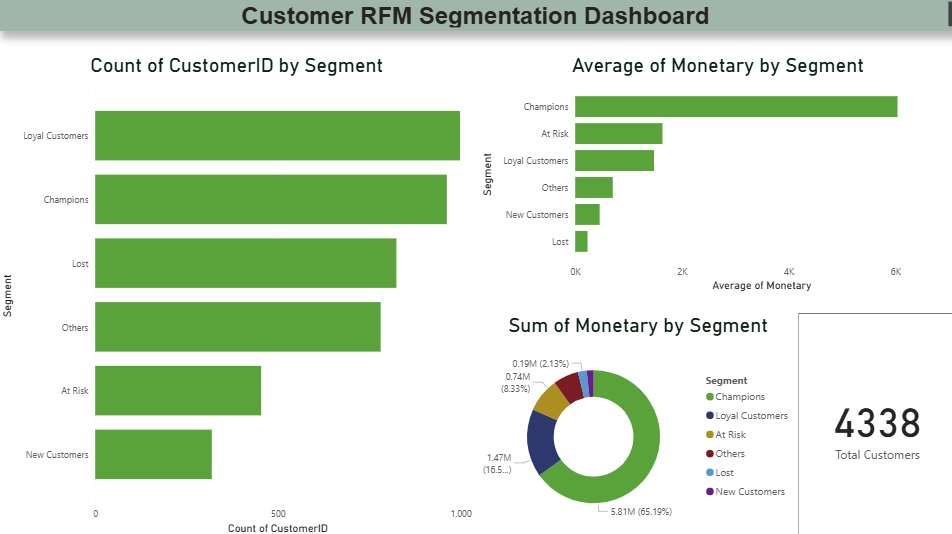

This screenshot's page, from the dashboard's own definition file:
{"tool":"powerbi","page":{"name":"Page 1","canvas":[1280,720],"ordinal":0},"visuals":[{"type":"barChart","fields":{"Category":["rfm_final.Segment"],"Y":["CountNonNull(rfm_final.CustomerID)"]},"box":[0,72.9,637.1,647.1],"z":0},{"type":"barChart","fields":{"Category":["rfm_final.Segment"],"Y":["Avg(rfm_final.Monetary)"]},"box":[640,73.3,640,323.3],"z":1},{"type":"card","fields":{"Values":["CountNonNull(rfm_final.CustomerID)"]},"box":[1067.1,420,212.9,300],"z":2},{"type":"donutChart","fields":{"Category":["rfm_final.Segment"],"Y":["Sum(rfm_final.Monetary)"]},"box":[640,420,427.5,300],"z":3},{"type":"textbox","box":[0,0,1280,44.3],"z":4}]}

Visuals, with their boxes in screenshot pixels (x1, y1, x2, y2), scaled from the page's 1280x720 canvas onto the 952x534 screenshot:
barChart - rfm_final.Segment x CountNonNull(rfm_final.CustomerID): bbox(0, 54, 474, 533)
barChart - rfm_final.Segment x Avg(rfm_final.Monetary): bbox(476, 54, 951, 294)
card - CountNonNull(rfm_final.CustomerID): bbox(794, 312, 951, 533)
donutChart - rfm_final.Segment x Sum(rfm_final.Monetary): bbox(476, 312, 794, 533)
textbox: bbox(0, 0, 951, 33)
